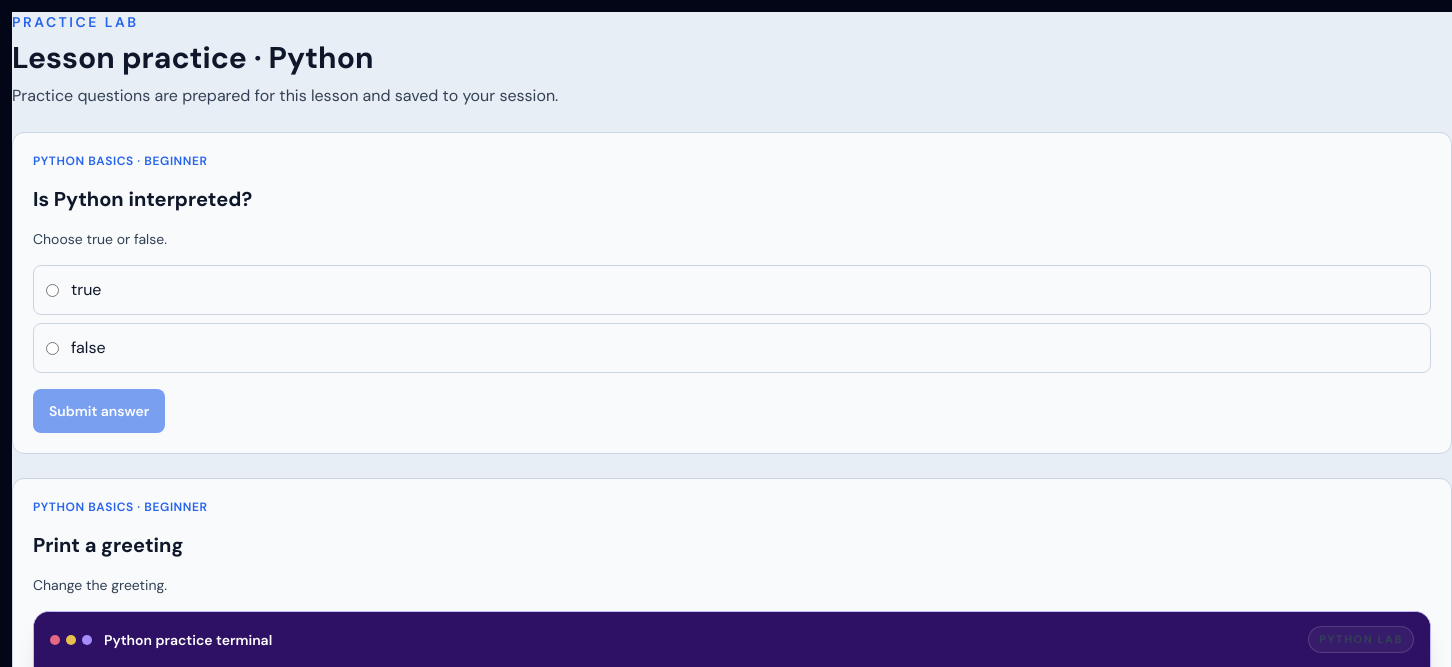
Test: AcademyPractice saved session › uses an idempotency key and clears the busy state on grading errors
This screenshot has width=1452, height=667.
Click the radio button labelled "true" at [52, 290], box x1=46 y1=284 x2=59 y2=296
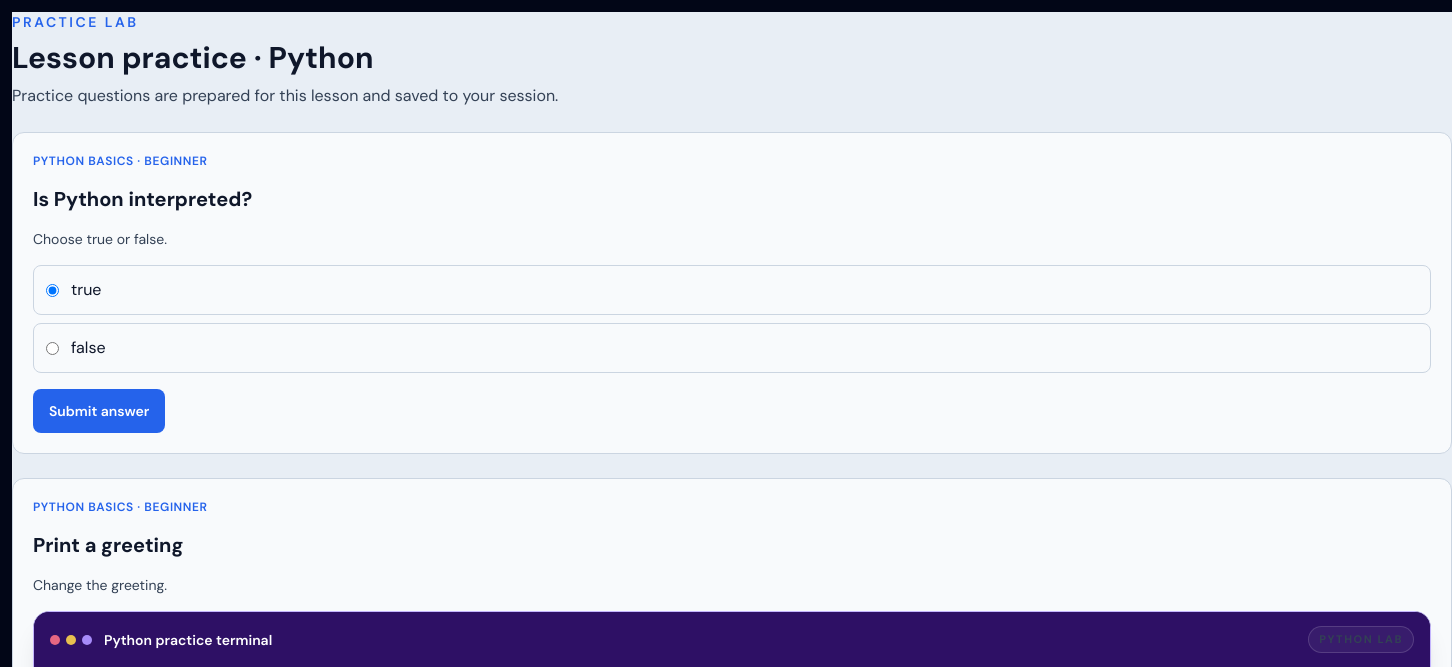
Click the button "Submit answer" at [99, 411], box x1=33 y1=389 x2=165 y2=433
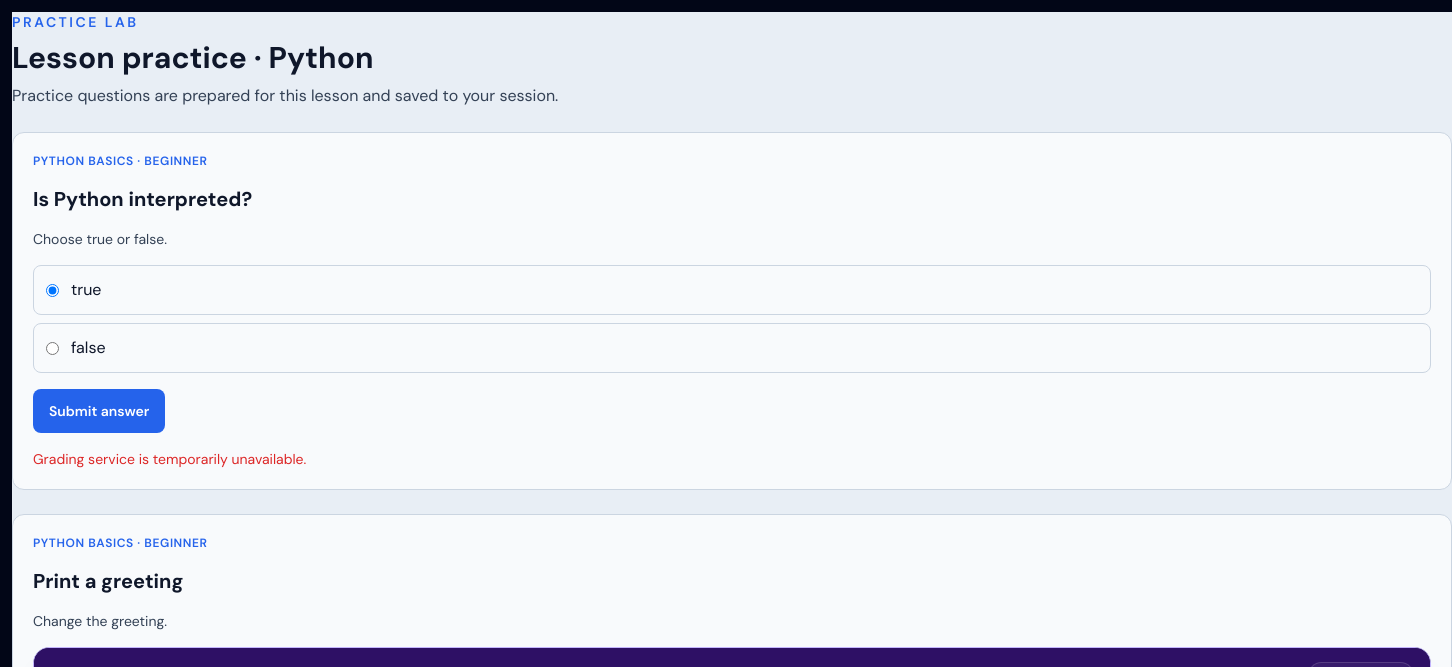
Check: the button "Submit answer" is enabled, box x1=33 y1=389 x2=165 y2=433
Check: the text "Grading service is temporarily unavailable." is shown, box x1=33 y1=450 x2=306 y2=468
